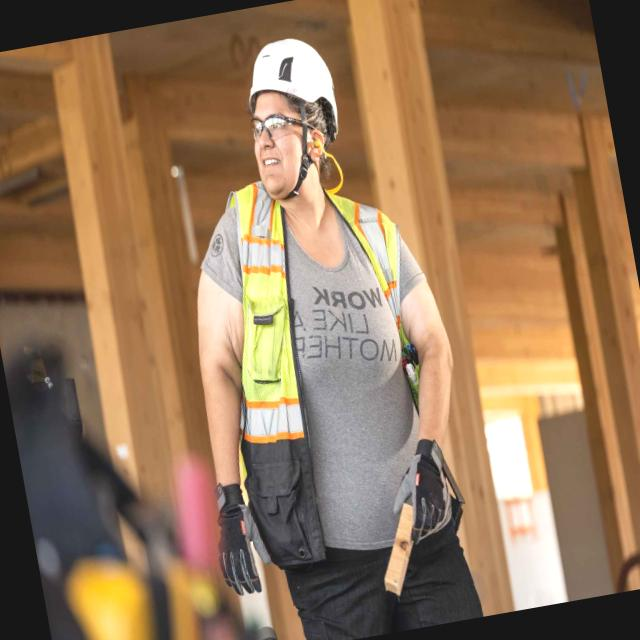helmet: (236, 28, 342, 127)
no-goggles: (246, 105, 310, 145)
vest: (197, 160, 450, 564)
